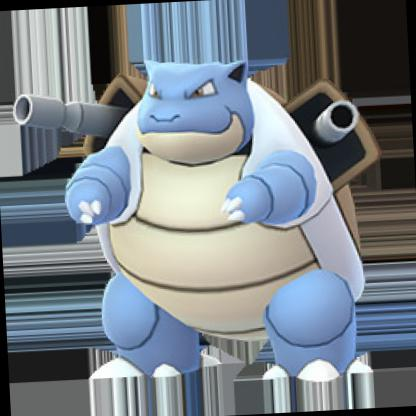Blastoise: (1, 1, 416, 416)
